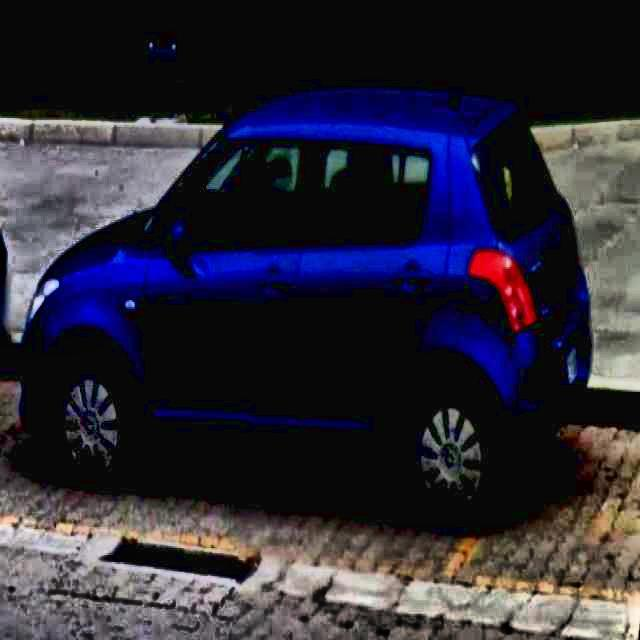carro: (29, 85, 592, 524)
